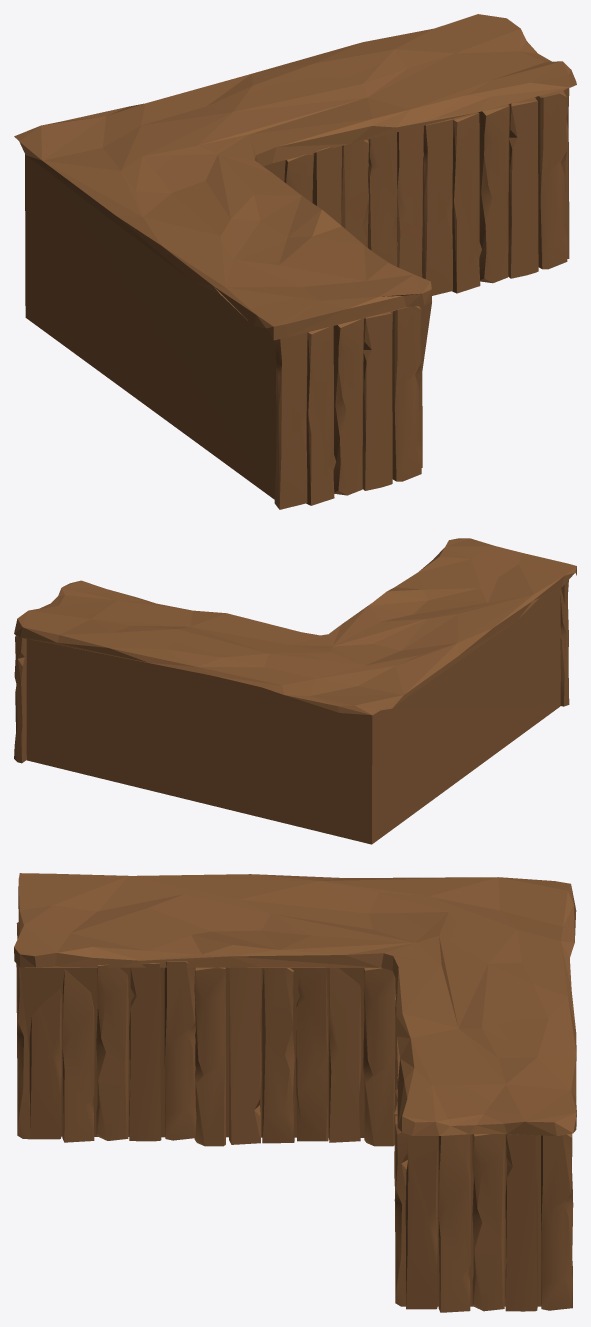
Rendered from bar.glb.
3 renders of one model, top to bottom at view 1: azimuth 30°, elevation 25°; view 2: azimuth 150°, elevation 25°; view 3: azimuth 270°, elevation 25°, orthographic. The views are drawn at different scales.
Parts seen in each view (by area): view 1: Bar; view 2: Bar; view 3: Bar.
Part boxes in pixels (box(x1,y1,x2,y2)): Bar: box(14, 14, 576, 509); Bar: box(14, 538, 576, 844); Bar: box(14, 873, 576, 1312).
Bounding box in the file's own units: 5.9 × 2.22 × 5.61.
